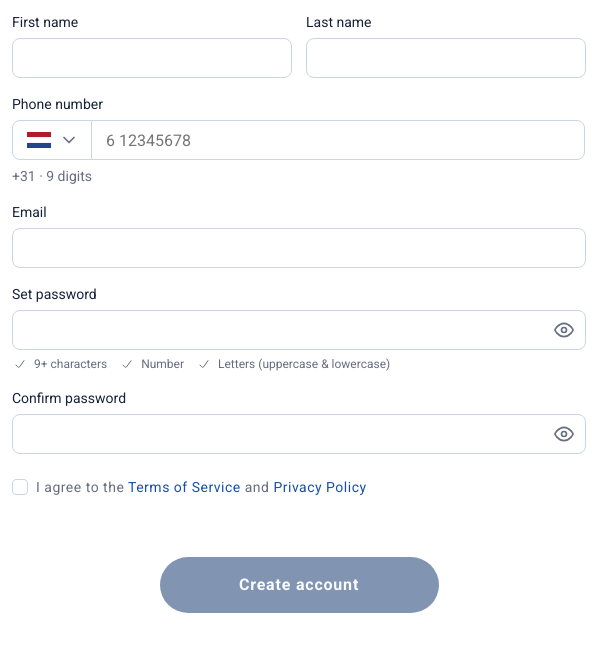
Test: SignUpForm › holds back the email error until the field is left
In the field labelled "Email": (299, 248) [12,228,586,268], type "ada@"
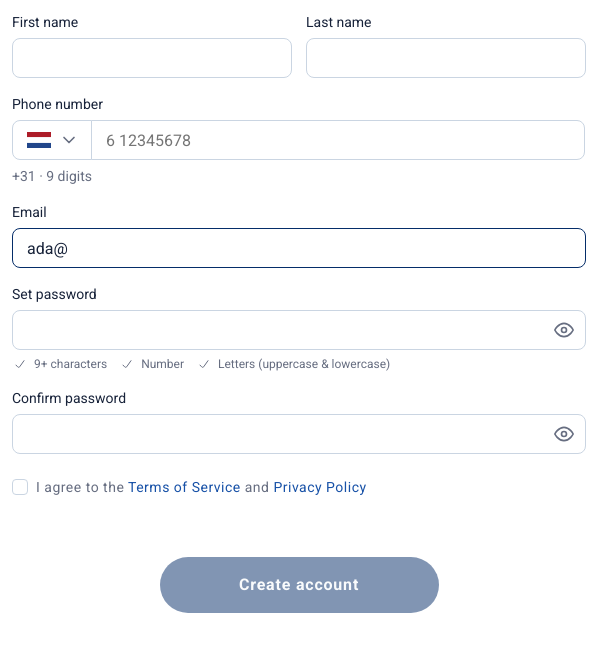
Expected: the text "Enter a valid email address" is not shown
Press Tab
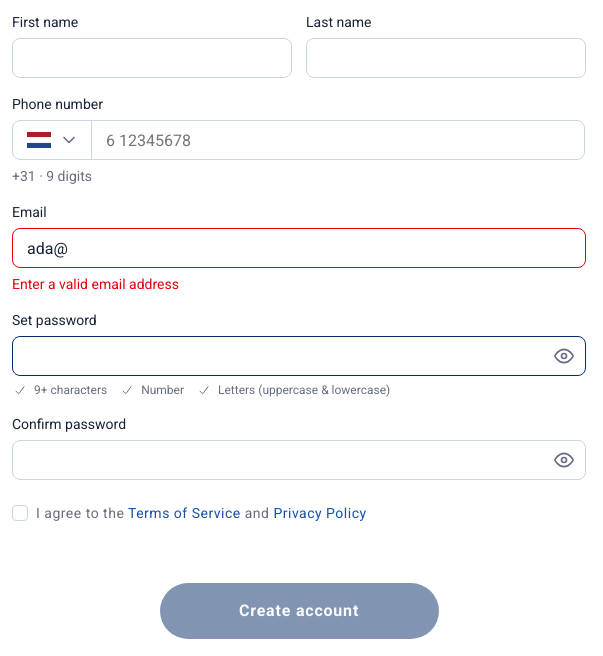
Expected: the text "Enter a valid email address" is shown, [12,276,179,292]
